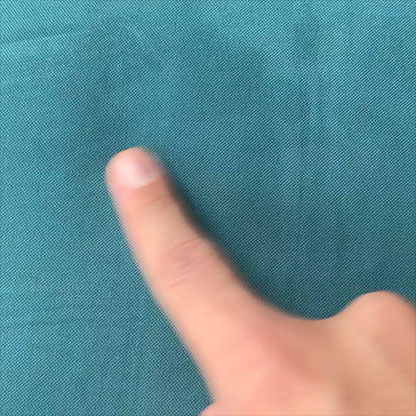fingertip: (98, 133, 181, 205)
